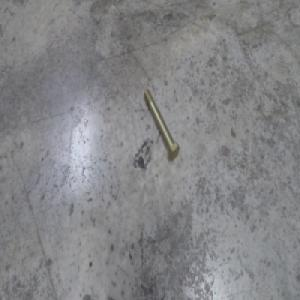Bolt: (143, 87, 181, 162)
